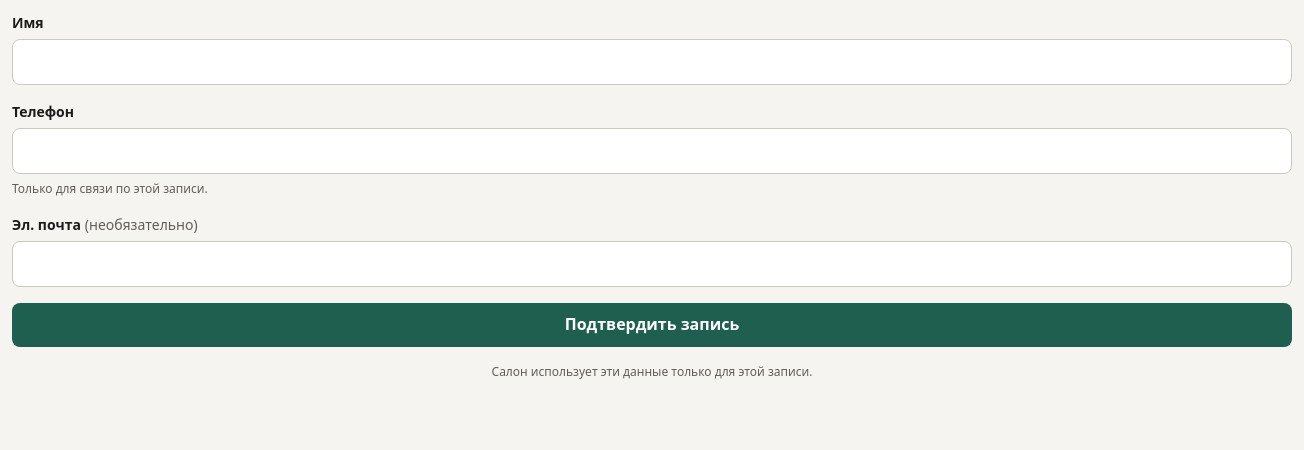
ContactForm › speaks Russian when asked to
Click the button "Подтвердить запись" at (652, 325), box [12,303,1292,347]
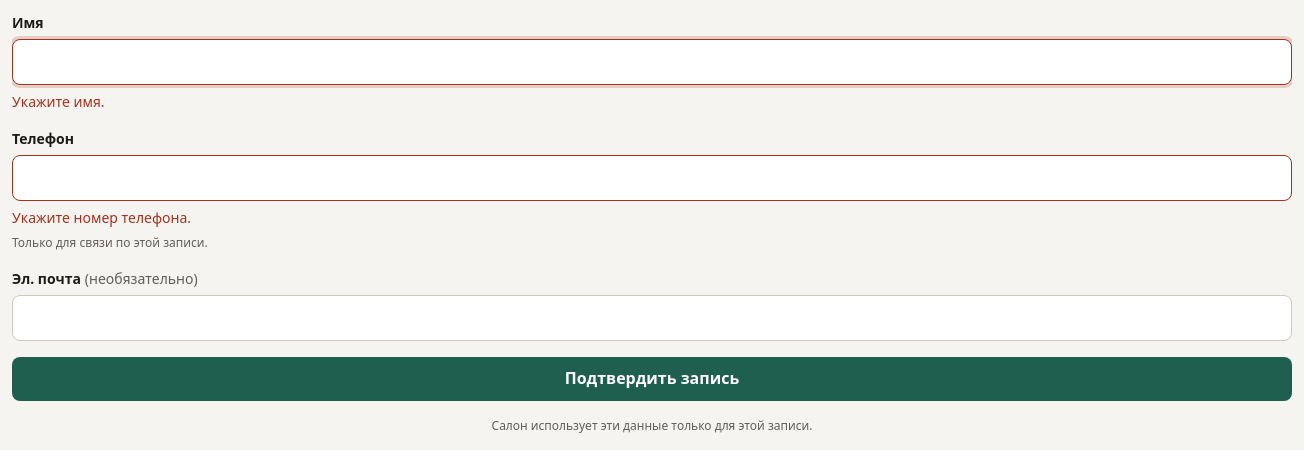
Expected: the text "Укажите имя." is shown, [12,92,105,111]
